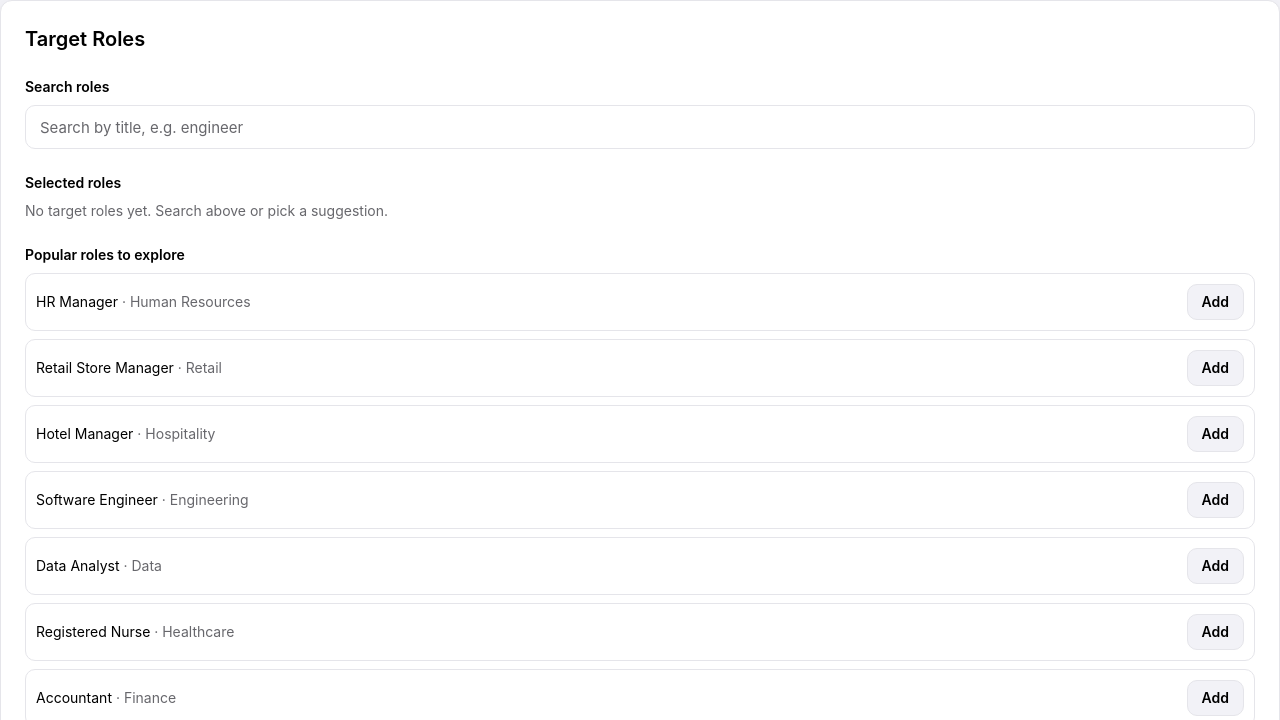
phrase confirmation › does not offer a preference when the query adds nothing to the canonical role
Check: the text "No target roles yet. Search above or pick a suggestion." is shown, box [25,202,388,219]
Type "Data Engineer" into the dropdown named "Search target roles".
click(640, 127); type("Data Engineer")  # box [25,105,1255,149]
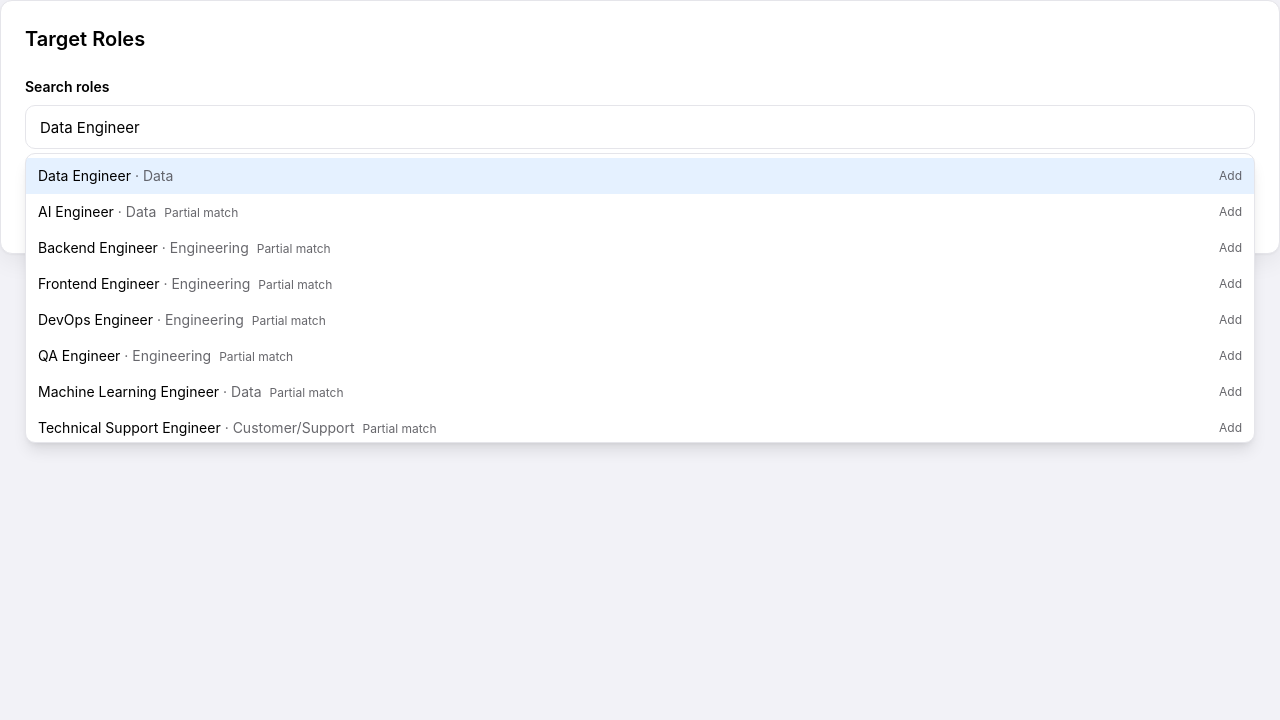
Check: the text "Data Engineer" is shown, box [38,167,131,184]
